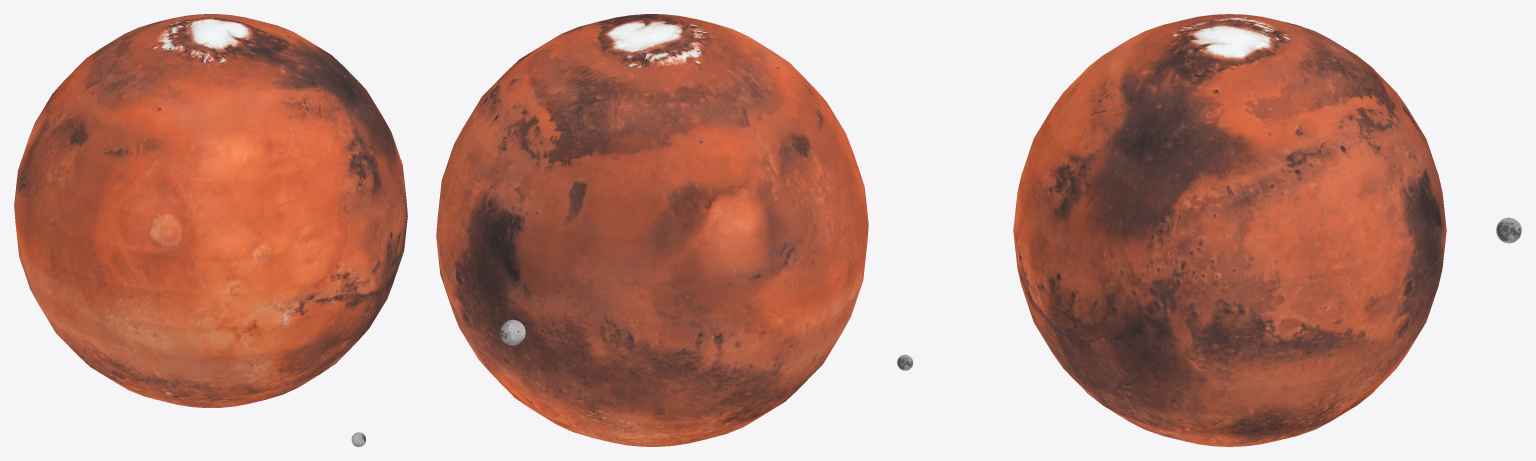
File: martel.glb
The picture shows the model from 3 angles, left to right: view 1: azimuth 30°, elevation 25°; view 2: azimuth 150°, elevation 25°; view 3: azimuth 270°, elevation 25°; orthographic projection. The views are drawn at different scales.
Parts seen in each view (by area): view 1: Esfera; view 2: Esfera, Esfera.001; view 3: Esfera.
Part boxes in pixels (left/top/right/bottom): Esfera: left=14, top=14, right=407, bottom=407; Esfera: left=436, top=14, right=868, bottom=446; Esfera.001: left=500, top=319, right=525, bottom=345; Esfera: left=1013, top=14, right=1446, bottom=446.
Size of the model in its own units: 2 by 2 by 2.88.
3 materials, 3 textured.
